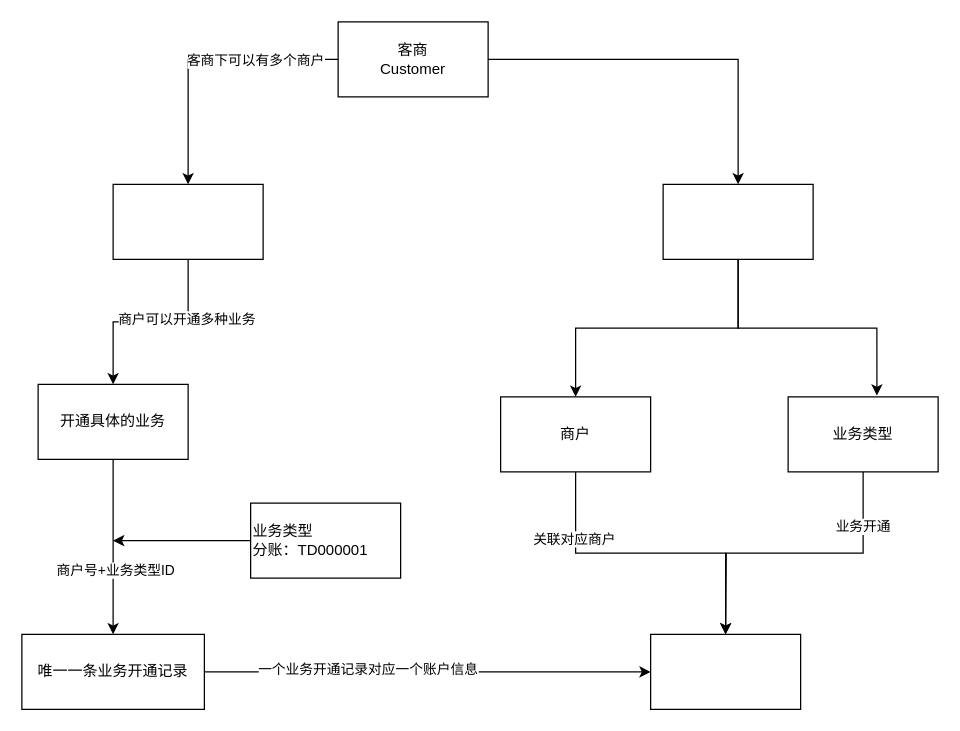
This 960x731 diagram has some shape labels left out. The shapes that lost their labels are listed below. From the top down, each one's centre as x and y in pixels, then its label:
At point (187, 221): "商户 Merchant".
At point (737, 221): "客商账户".
At point (725, 671): "唯一一条账户".
